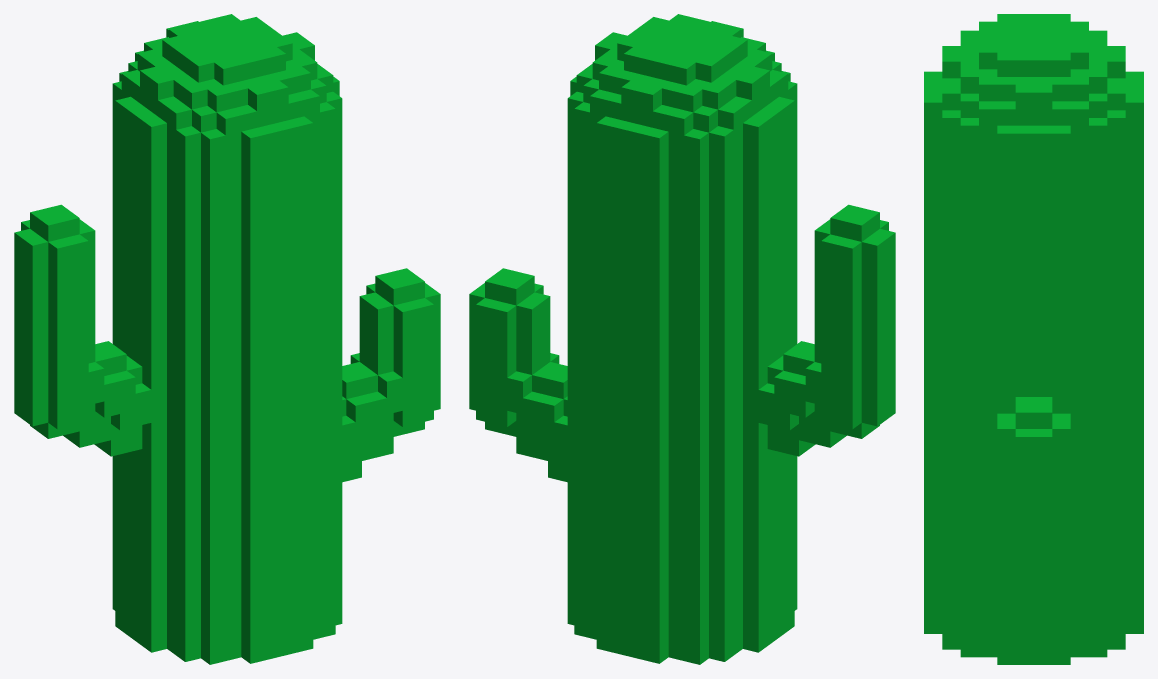
The model's file is Saboten.dae.
3 views of the same model, side by side, from view 1: azimuth 30°, elevation 25°; view 2: azimuth 150°, elevation 25°; view 3: azimuth 270°, elevation 25° (orthographic).
Visible parts, largest first — view 1: Matrix_part_2, Matrix_part_2_part, Matrix_part, Matrix_part_1, Matrix; view 2: Matrix_part_2, Matrix_part_2_part, Matrix_part, Matrix_part_1, Matrix; view 3: Matrix_part_2, Matrix_part_2_part, Matrix_part_1, Matrix.
Boxes of the visible parts, x1,y1,x2,y2 form: Matrix_part_2: [112, 262, 355, 631]; Matrix_part_2_part: [112, 14, 342, 352]; Matrix_part: [14, 204, 135, 456]; Matrix_part_1: [342, 268, 440, 481]; Matrix: [112, 576, 342, 664]; Matrix_part_2: [554, 262, 797, 631]; Matrix_part_2_part: [567, 14, 797, 352]; Matrix_part: [774, 204, 895, 456]; Matrix_part_1: [469, 268, 567, 481]; Matrix: [567, 576, 797, 664]; Matrix_part_2: [924, 284, 1143, 631]; Matrix_part_2_part: [924, 14, 1143, 299]; Matrix_part_1: [997, 397, 1070, 564]; Matrix: [924, 600, 1143, 664].
Bounding box in the file's own units: 26 × 35 × 12.
Materials: 1 (1 with a texture image).
